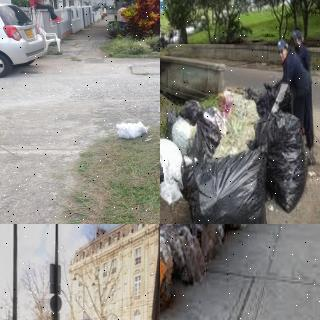Garbage: (181, 147, 274, 224), (254, 111, 310, 213), (160, 224, 211, 285), (160, 228, 184, 318), (192, 117, 219, 159), (114, 118, 154, 142), (178, 99, 203, 121)
